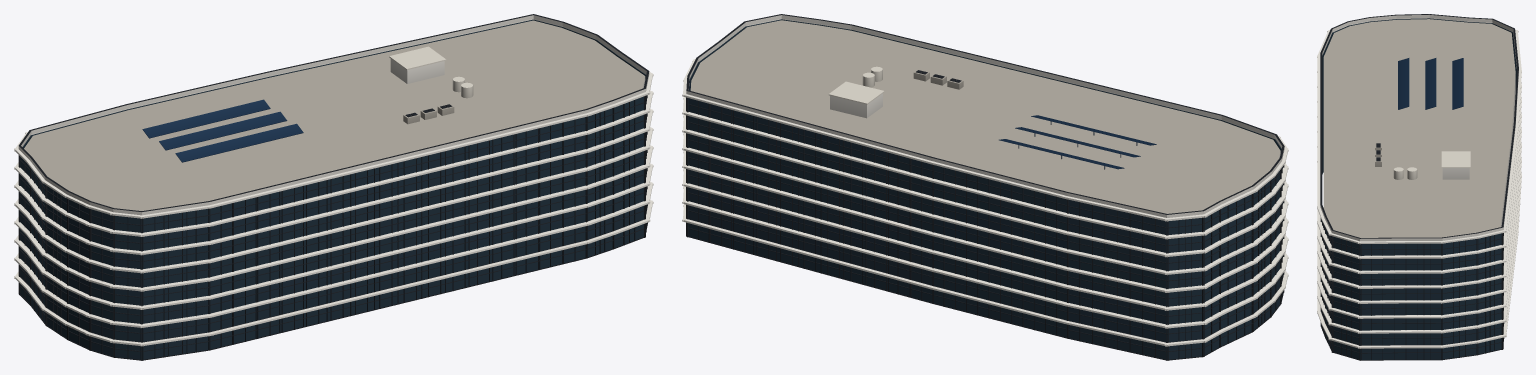
The model's file is sdc_block.glb.
3 renders of one model, left to right at view 1: azimuth 30°, elevation 25°; view 2: azimuth 150°, elevation 25°; view 3: azimuth 270°, elevation 25°, orthographic. The views are drawn at different scales.
Parts seen in each view (by area): view 1: LOD0_High_CurtainGlass, LOD0_High_RoofSlabConcrete, LOD0_High_StuccoWhite, LOD0_High_DarkAnodizedSteel, LOD0_High_SolarPV, LOD1_Medium_DarkAnodizedSteel, LOD0_High_StuccoWarmTrim; view 2: LOD0_High_CurtainGlass, LOD0_High_RoofSlabConcrete, LOD0_High_StuccoWhite, LOD0_High_DarkAnodizedSteel, LOD1_Medium_DarkAnodizedSteel, LOD0_High_SolarPV, LOD0_High_StuccoWarmTrim; view 3: LOD0_High_RoofSlabConcrete, LOD0_High_CurtainGlass, LOD0_High_StuccoWhite, LOD0_High_DarkAnodizedSteel, LOD0_High_SolarPV, LOD0_High_StuccoWarmTrim, LOD1_Medium_DarkAnodizedSteel.
Part boxes in pixels (x1,y1,x2,y2): LOD0_High_CurtainGlass: (20, 19, 646, 359); LOD0_High_RoofSlabConcrete: (24, 20, 644, 210); LOD0_High_StuccoWhite: (14, 15, 653, 346); LOD0_High_DarkAnodizedSteel: (18, 14, 649, 360); LOD0_High_SolarPV: (142, 99, 303, 162); LOD1_Medium_DarkAnodizedSteel: (56, 24, 646, 357); LOD0_High_StuccoWarmTrim: (389, 46, 473, 98); LOD0_High_CurtainGlass: (688, 19, 1282, 359); LOD0_High_RoofSlabConcrete: (690, 20, 1280, 213); LOD0_High_StuccoWhite: (682, 15, 1288, 346); LOD0_High_DarkAnodizedSteel: (686, 14, 1284, 360); LOD1_Medium_DarkAnodizedSteel: (708, 58, 1262, 358); LOD0_High_SolarPV: (999, 115, 1156, 169); LOD0_High_StuccoWarmTrim: (828, 66, 884, 104); LOD0_High_RoofSlabConcrete: (1323, 19, 1515, 237); LOD0_High_CurtainGlass: (1321, 18, 1516, 359); LOD0_High_StuccoWhite: (1317, 14, 1521, 348); LOD0_High_DarkAnodizedSteel: (1320, 14, 1518, 360); LOD0_High_SolarPV: (1398, 58, 1463, 109); LOD0_High_StuccoWarmTrim: (1393, 151, 1470, 179); LOD1_Medium_DarkAnodizedSteel: (1323, 223, 1503, 359).
Bounding box in the file's own units: 112 × 30.47 × 42.7.
